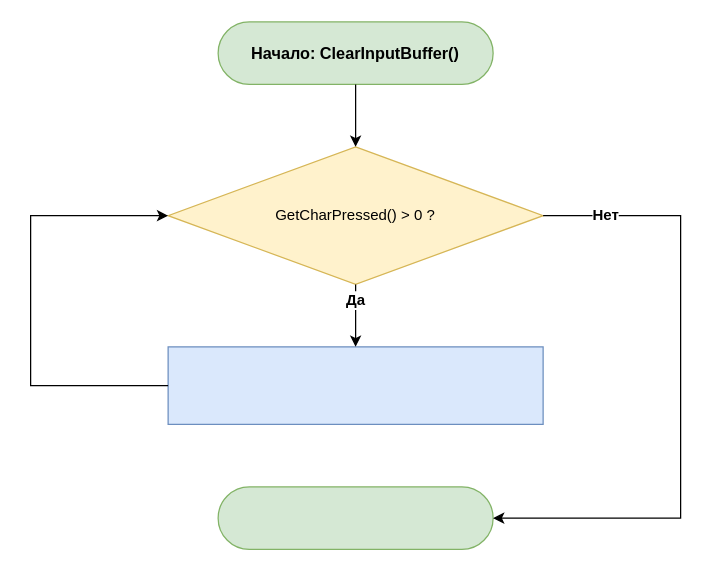
Some shapes in this 713 by 571 pixel diagram are drawn without their labels. The shapes that lost their labels are listed below. From the top down, each one's box as (x1, y1, x2, y2) in pixels, then its label:
(167, 346, 543, 424): Символ прочитан из очереди и отброшен (тело цикла пустое)
(217, 486, 493, 549): Конец (возврат)
